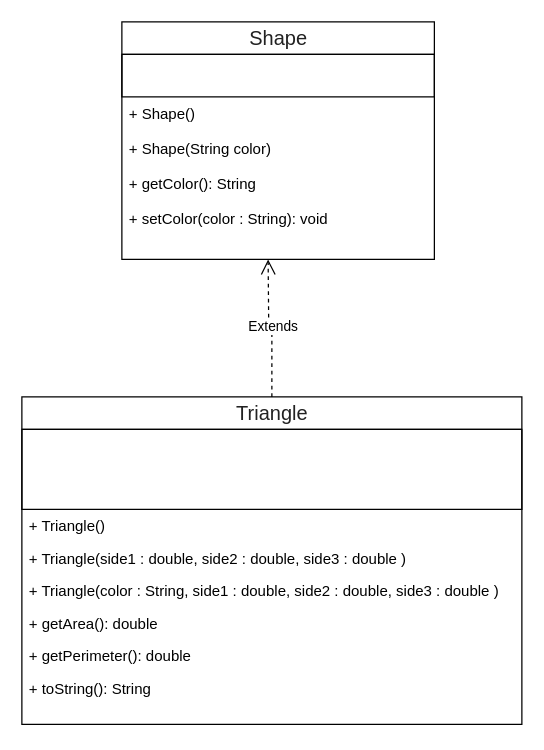
This 544x750 diagram has some shape labels left out. Here are the shapes that lost their labels. From the top down, the box of each, then its label:
(121, 53, 434, 97): - color: String
(21, 428, 522, 509): - side1 = 1.0: double - side2 = 1.0: double - side3 = 1.0: double
